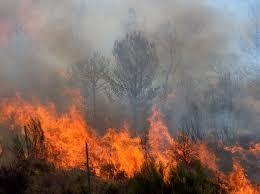fire: (0, 88, 259, 193)
smoke: (0, 0, 260, 140)
